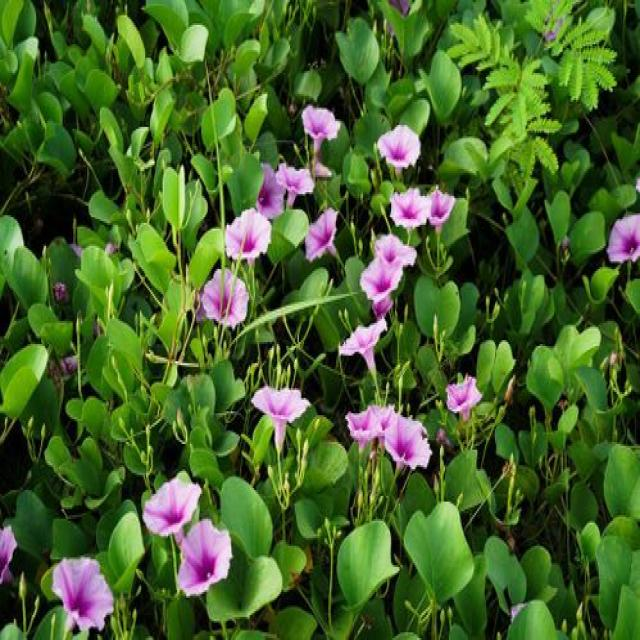ipomoea: (47, 552, 117, 636), (173, 515, 235, 602), (247, 378, 313, 456), (140, 471, 204, 544), (198, 264, 252, 334), (379, 411, 434, 477), (222, 204, 274, 269), (336, 313, 390, 375), (373, 119, 423, 177), (441, 369, 485, 427), (302, 204, 342, 267), (298, 100, 342, 156), (603, 209, 639, 271)
